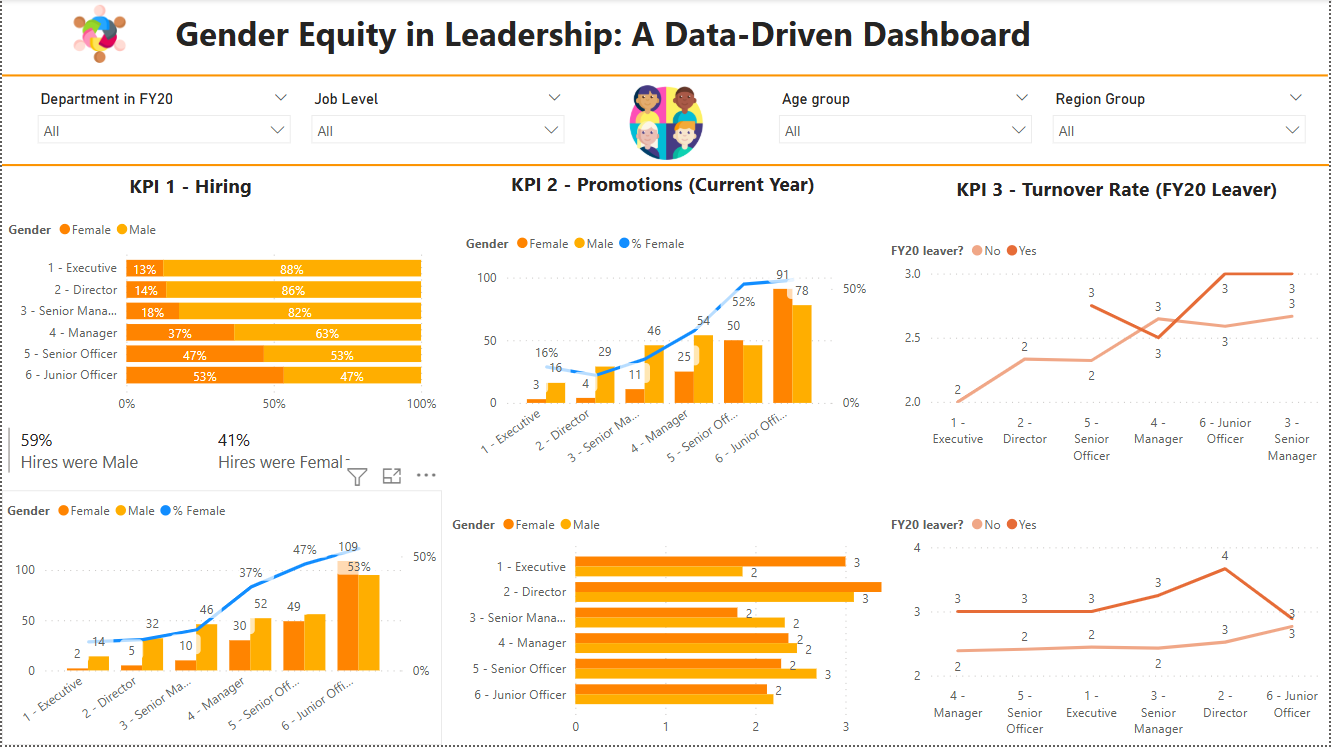

The dashboard page shown, as its layout file describes it:
{"tool":"powerbi","page":{"name":"Page 1","canvas":[1280,720],"ordinal":0},"visuals":[{"type":"textbox","box":[156.6,6.2,846.6,67.1],"z":0},{"type":"slicer","fields":{"Values":["Pharma Group AG.Last Department in FY20"]},"box":[24.4,83.3,264.1,65.4],"z":1000},{"type":"slicer","fields":{"Values":["Pharma Group AG.Job Level after FY21 promotions"]},"box":[288.2,83.2,264.1,65.1],"z":2000},{"type":"slicer","fields":{"Values":["Pharma Group AG.Age group"]},"box":[739.3,83.2,264.1,65.1],"z":3000},{"type":"slicer","fields":{"Values":["Pharma Group AG.Broad region group: nationality 1"]},"box":[1003.4,83.2,264.1,65.1],"z":4000},{"type":"shape","box":[0,145.5,1280.5,28.6],"z":5000},{"type":"hundredPercentStackedBarChart","fields":{"Y":["CountNonNull(Pharma Group AG.Employee ID)"],"Series":["Pharma Group AG.Gender"],"Category":["Pharma Group AG.Job Level after FY20 promotions"]},"box":[1.2,202.6,423.3,206.2],"z":6000},{"type":"shape","box":[0,67.1,1279.3,12.4],"z":7000},{"type":"multiRowCard","fields":{"Values":["Pharma Group AG.% Male","Pharma Group AG.% Female"]},"box":[1.2,408.8,402.8,65.1],"z":8000},{"type":"lineClusteredColumnComboChart","fields":{"Category":["Pharma Group AG.Job Level after FY20 promotions"],"Y":["CountNonNull(Pharma Group AG.Employee ID)"],"Series":["Pharma Group AG.Gender"],"Y2":["Pharma Group AG.% Female"]},"box":[0,474,424.5,246],"z":9000},{"type":"lineClusteredColumnComboChart","fields":{"Y":["CountNonNull(Pharma Group AG.Employee ID)"],"Series":["Pharma Group AG.Gender"],"Y2":["Pharma Group AG.% Female"],"Category":["Pharma Group AG.Job Level after FY21 promotions"]},"box":[442.6,215.9,396.8,246],"z":10000},{"type":"textbox","box":[481.1,160.4,318.3,42.3],"z":11000},{"type":"clusteredBarChart","fields":{"Series":["Pharma Group AG.Gender"],"Y":["Avg(Pharma Group AG.Time in Job Level @01.07.2020)"],"Category":["Pharma Group AG.Job Level after FY20 promotions"]},"box":[429.3,487.2,442.6,232.8],"z":12000},{"type":"lineChart","fields":{"Category":["Pharma Group AG.Job Level after FY20 promotions"],"Y":["Avg(Pharma Group AG.FY19 Performance Rating)"],"Series":["Pharma Group AG.FY20 leaver?"]},"box":[852.7,223.1,426.9,232.8],"z":13000},{"type":"lineChart","fields":{"Category":["Pharma Group AG.Job Level after FY20 promotions"],"Y":["Avg(Pharma Group AG.FY19 Performance Rating)"],"Series":["Pharma Group AG.FY20 leaver?"]},"box":[852.7,487.2,426.9,232.8],"z":14000},{"type":"textbox","box":[872,165.2,407.6,39.8],"z":15000},{"type":"textbox","box":[24.9,160.4,318.3,42.3],"z":16000},{"type":"image","box":[60.9,0,65.9,67.1],"z":16001},{"type":"textbox","box":[25.3,162.8,318.4,42.2],"z":16002},{"type":"image","box":[584.9,78.4,112.2,82],"z":16003}]}

Visuals, with their boxes in screenshot pixels (x1, y1, x2, y2), scaled from the page's 1280x720 canvas onto the 1332x748 screenshot:
textbox: (163, 6, 1044, 76)
slicer - Pharma Group AG.Last Department in FY20: (25, 87, 300, 154)
slicer - Pharma Group AG.Job Level after FY21 promotions: (300, 86, 575, 154)
slicer - Pharma Group AG.Age group: (769, 86, 1044, 154)
slicer - Pharma Group AG.Broad region group: nationality 1: (1044, 86, 1319, 154)
shape: (0, 151, 1331, 181)
hundredPercentStackedBarChart - CountNonNull(Pharma Group AG.Employee ID) x Pharma Group AG.Gender: (1, 210, 442, 425)
shape: (0, 70, 1331, 83)
multiRowCard - Pharma Group AG.% Male x Pharma Group AG.% Female: (1, 425, 420, 492)
lineClusteredColumnComboChart - Pharma Group AG.Job Level after FY20 promotions x CountNonNull(Pharma Group AG.Employee ID): (0, 492, 442, 747)
lineClusteredColumnComboChart - CountNonNull(Pharma Group AG.Employee ID) x Pharma Group AG.Gender: (461, 224, 874, 480)
textbox: (501, 167, 832, 211)
clusteredBarChart - Pharma Group AG.Gender x Avg(Pharma Group AG.Time in Job Level @01.07.2020): (447, 506, 907, 747)
lineChart - Pharma Group AG.Job Level after FY20 promotions x Avg(Pharma Group AG.FY19 Performance Rating): (887, 232, 1331, 474)
lineChart - Pharma Group AG.Job Level after FY20 promotions x Avg(Pharma Group AG.FY19 Performance Rating): (887, 506, 1331, 747)
textbox: (907, 172, 1331, 213)
textbox: (26, 167, 357, 211)
image: (63, 0, 132, 70)
textbox: (26, 169, 358, 213)
image: (609, 81, 725, 167)
